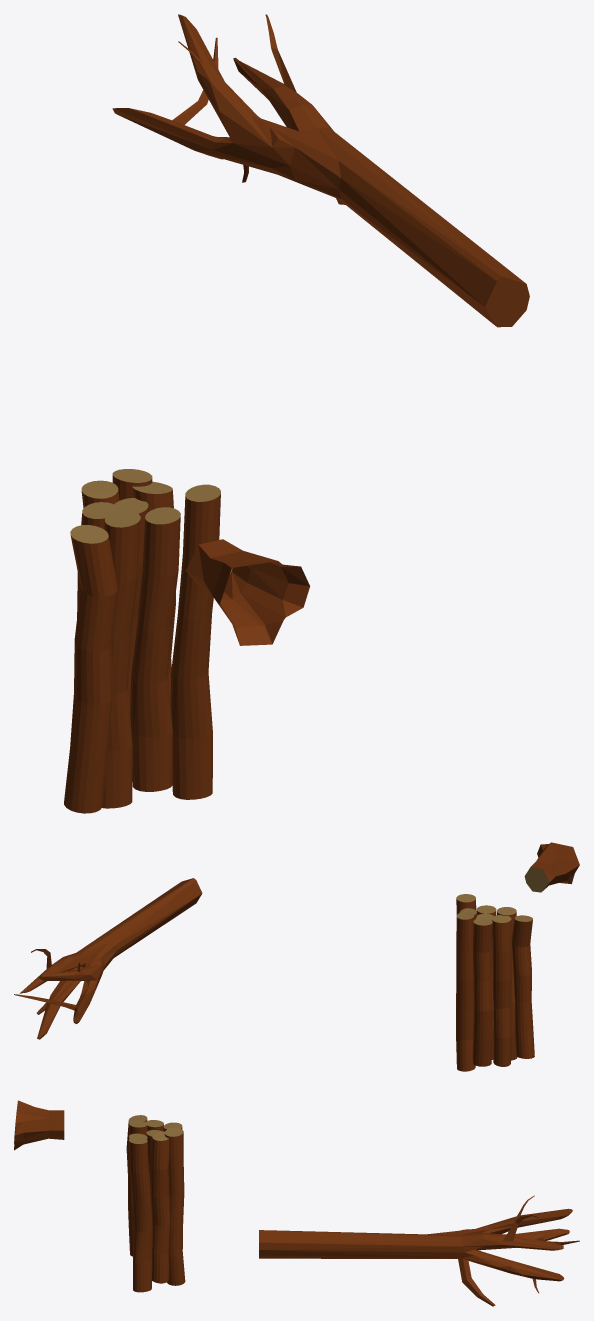
Rendered from wood.FBX.
3 views of the same model, one above another, from view 1: azimuth 30°, elevation 25°; view 2: azimuth 150°, elevation 25°; view 3: azimuth 270°, elevation 25° (orthographic). The views are drawn at different scales.
Visible parts, largest first — view 1: Woods, tree_dry, tree-cut; view 2: Woods, tree_dry, tree-cut; view 3: tree_dry, Woods, tree-cut.
Boxes of the visible parts, bbox=[...] form: Woods: bbox=[64, 469, 220, 813]; tree_dry: bbox=[112, 14, 529, 327]; tree-cut: bbox=[186, 539, 310, 645]; Woods: bbox=[456, 894, 534, 1071]; tree_dry: bbox=[14, 878, 202, 1039]; tree-cut: bbox=[524, 842, 579, 892]; tree_dry: bbox=[259, 1195, 579, 1306]; Woods: bbox=[126, 1115, 185, 1292]; tree-cut: bbox=[14, 1100, 64, 1150].
Size of the model in its own units: 571 by 326 by 885.
